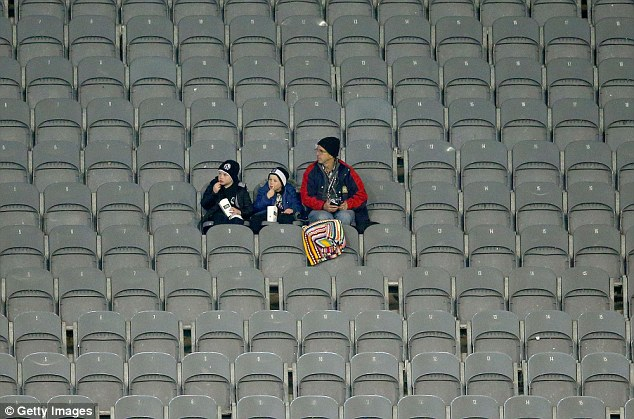Person: (301, 137, 368, 222), (198, 158, 252, 226), (254, 166, 300, 224)
